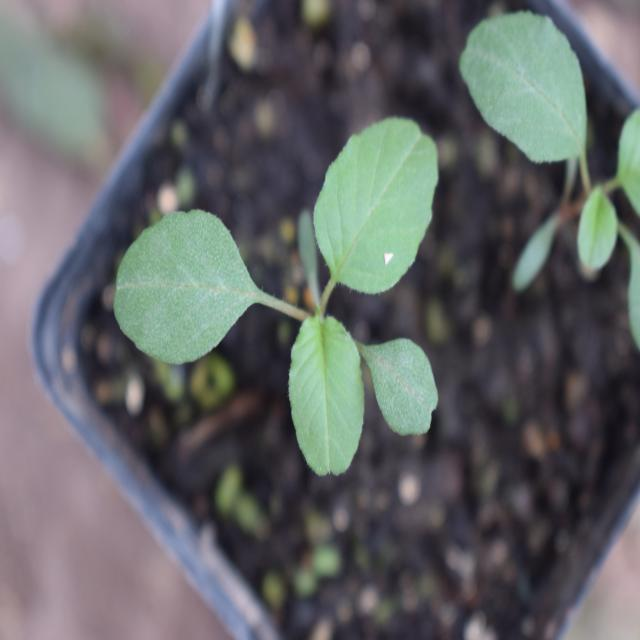pigweed: (103, 119, 444, 486)
